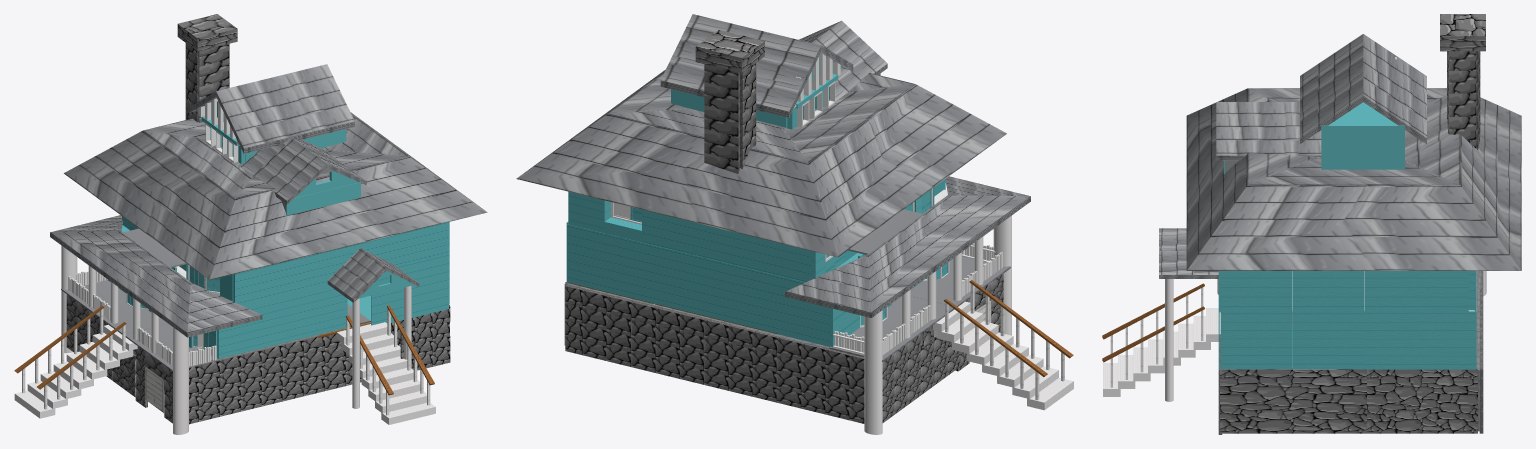
File: CasaParque.obj
The picture shows the model from 3 angles, left to right: view 1: azimuth 30°, elevation 25°; view 2: azimuth 150°, elevation 25°; view 3: azimuth 270°, elevation 25°; orthographic projection. The views are drawn at different scales.
Parts seen in each view (by area): view 1: object656_Material_0.001; view 2: object656_Material_0.001; view 3: object656_Material_0.001.
Part boxes in pixels (box(x1,y1,x2,y2)): object656_Material_0.001: box(14, 14, 487, 434); object656_Material_0.001: box(516, 14, 1073, 434); object656_Material_0.001: box(1102, 14, 1521, 434).
Bounding box in the file's own units: 52.86 × 38.32 × 42.7.
